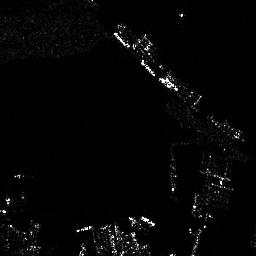ship: (113, 30, 131, 49), (140, 58, 157, 78)
